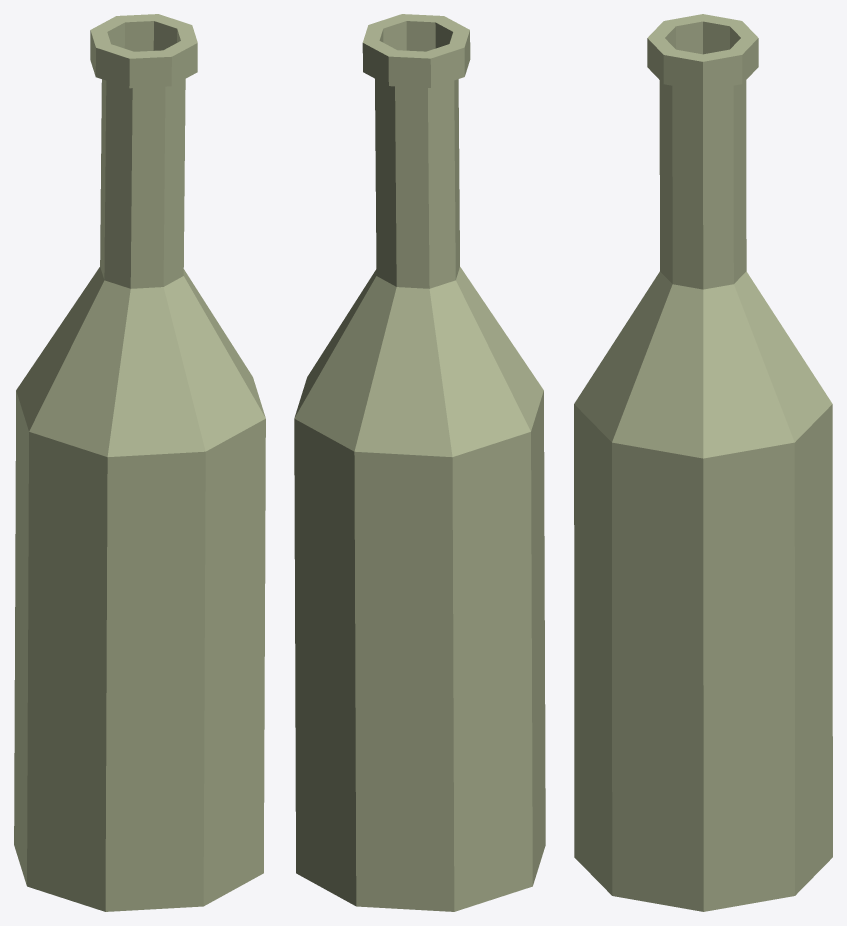
File: Kitchen_2_Bottle.fbx
3 views of the same model, side by side, from view 1: azimuth 30°, elevation 25°; view 2: azimuth 150°, elevation 25°; view 3: azimuth 270°, elevation 25° (orthographic).
Visible parts, largest first — view 1: Kitchen_2_Bottle; view 2: Kitchen_2_Bottle; view 3: Kitchen_2_Bottle.
Boxes of the visible parts, x1=… form: Kitchen_2_Bottle: x1=14, y1=14, x2=265, y2=911; Kitchen_2_Bottle: x1=294, y1=14, x2=545, y2=911; Kitchen_2_Bottle: x1=574, y1=14, x2=832, y2=911.
Size of the model in its own units: 16.9 by 58.79 by 16.77.
